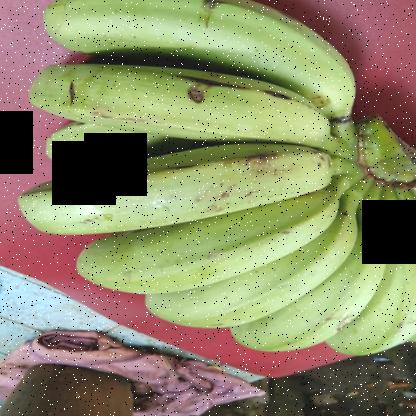freshunripe: (30, 0, 362, 115), (72, 188, 337, 298), (134, 216, 354, 335), (311, 211, 415, 372)
unripe: (14, 52, 352, 148), (10, 146, 335, 244)
